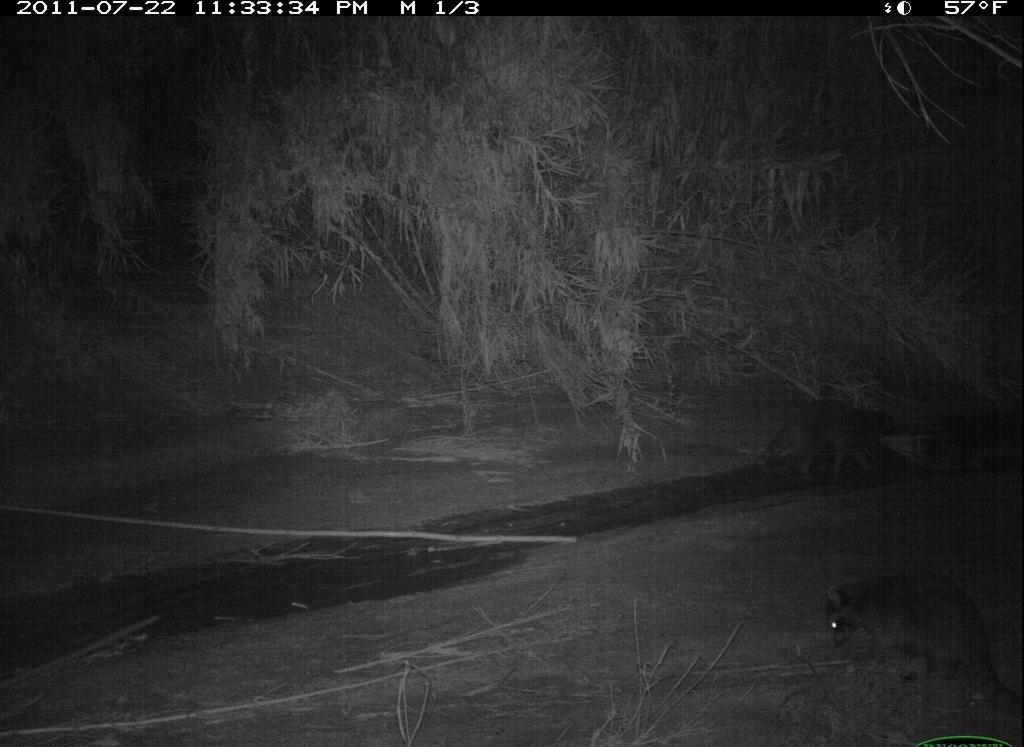raccoon: (820, 571, 1017, 717)
